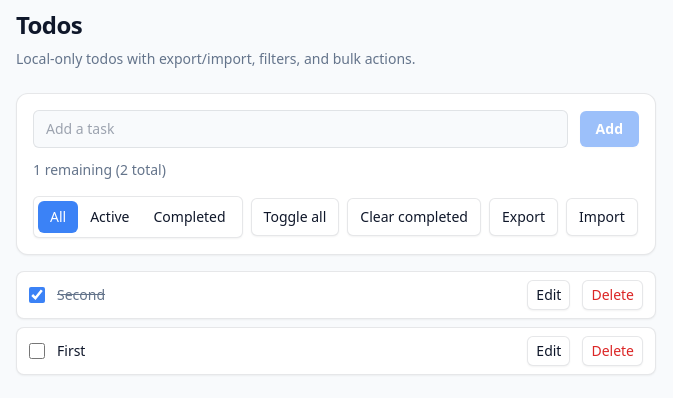
Scenario: undo delete restores the removed todo
Check: the text "First" is shown, box x1=57 y1=341 x2=85 y2=361
Click the button with aria-label "delete todo: first" at (613, 351), box x1=582 y1=336 x2=643 y2=366
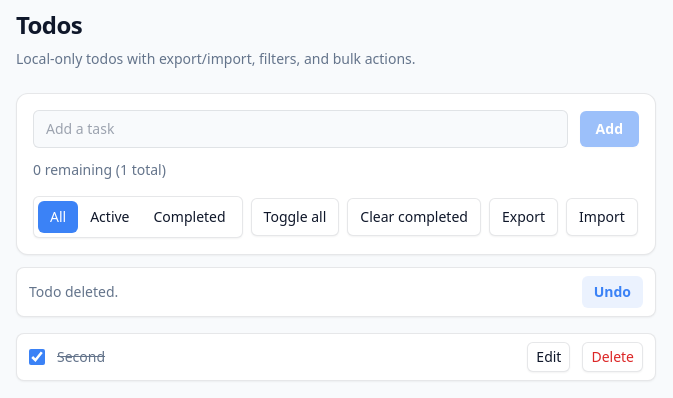
Check: the text "First" is gone
Click the button "Undo" at (612, 292), box x1=582 y1=276 x2=643 y2=308
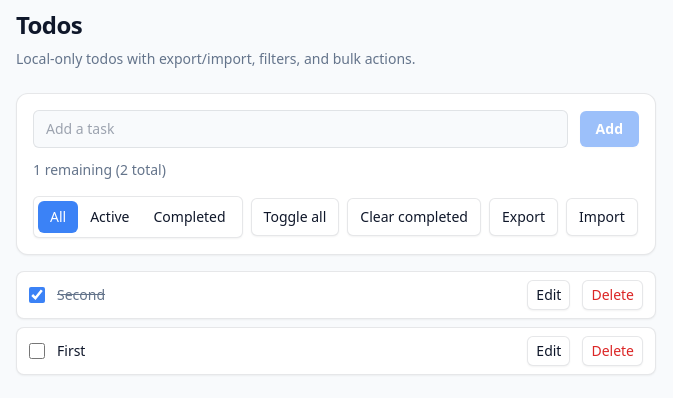
Check: the text "First" is shown, box x1=57 y1=341 x2=85 y2=361
